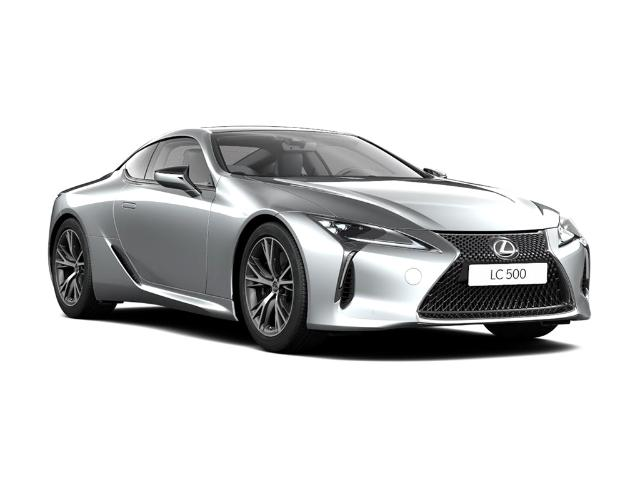lexus: (49, 126, 592, 352)
